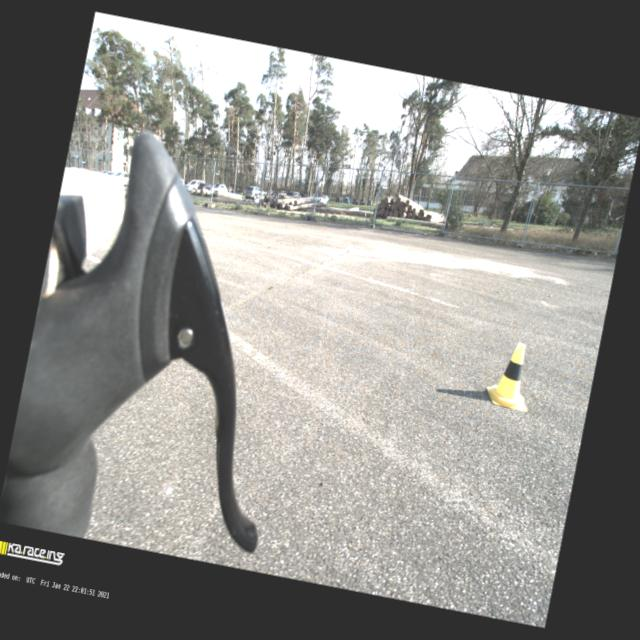yellow_cone: (484, 339, 540, 412)
